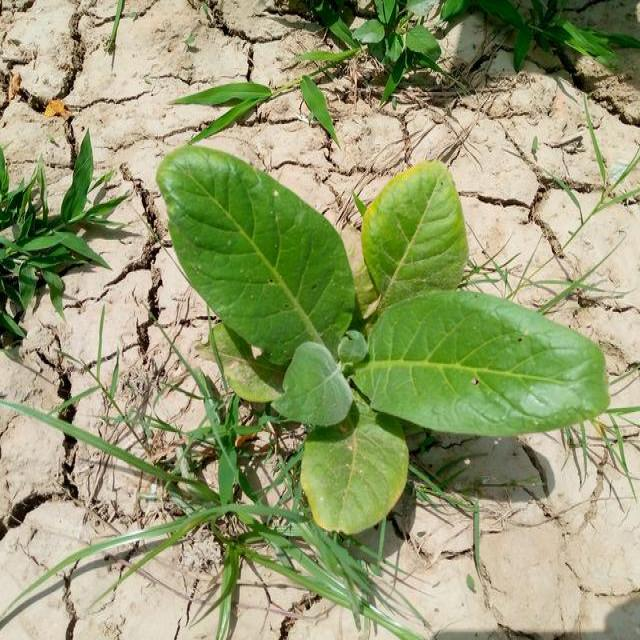crop: (165, 144, 615, 519)
